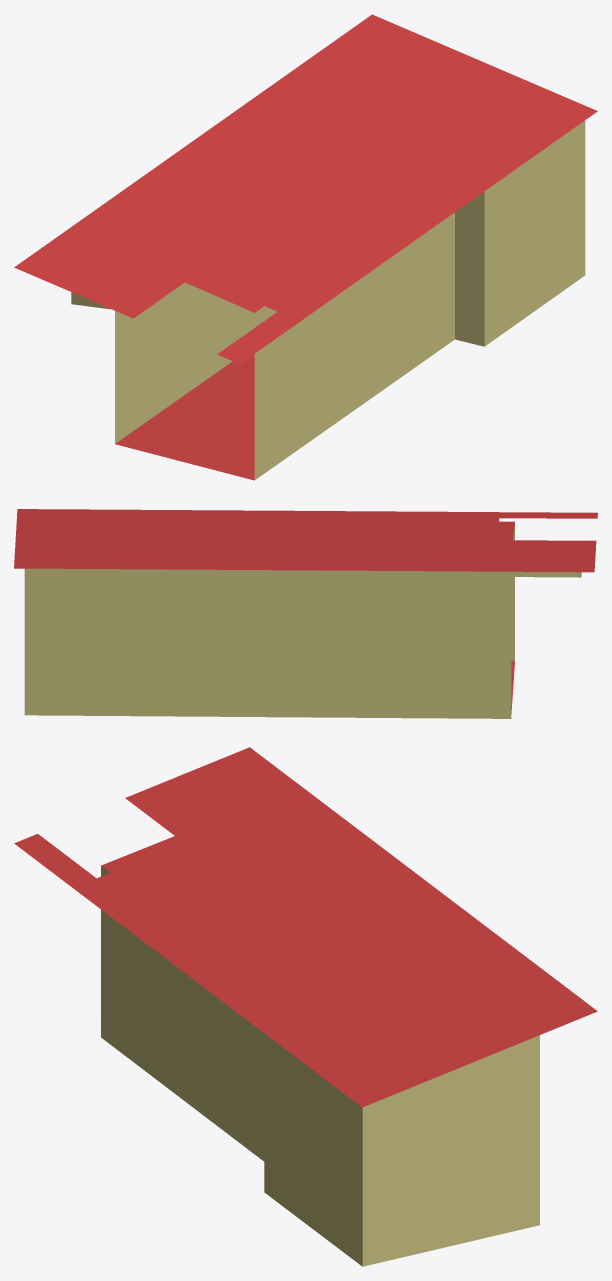
3 views of the same model, one above another, from view 1: azimuth 30°, elevation 25°; view 2: azimuth 150°, elevation 25°; view 3: azimuth 270°, elevation 25° (orthographic). The views are drawn at different scales.
Bounding box in the file's own units: 31.44 × 24.27 × 9.45.
